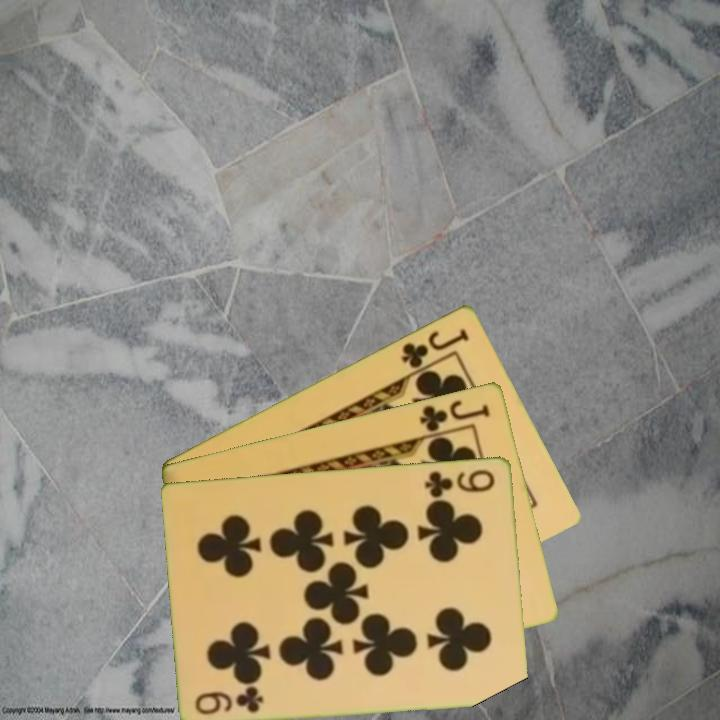9c: (421, 465, 498, 499), (192, 685, 267, 717)
Jc: (398, 324, 472, 371), (416, 396, 493, 439)
